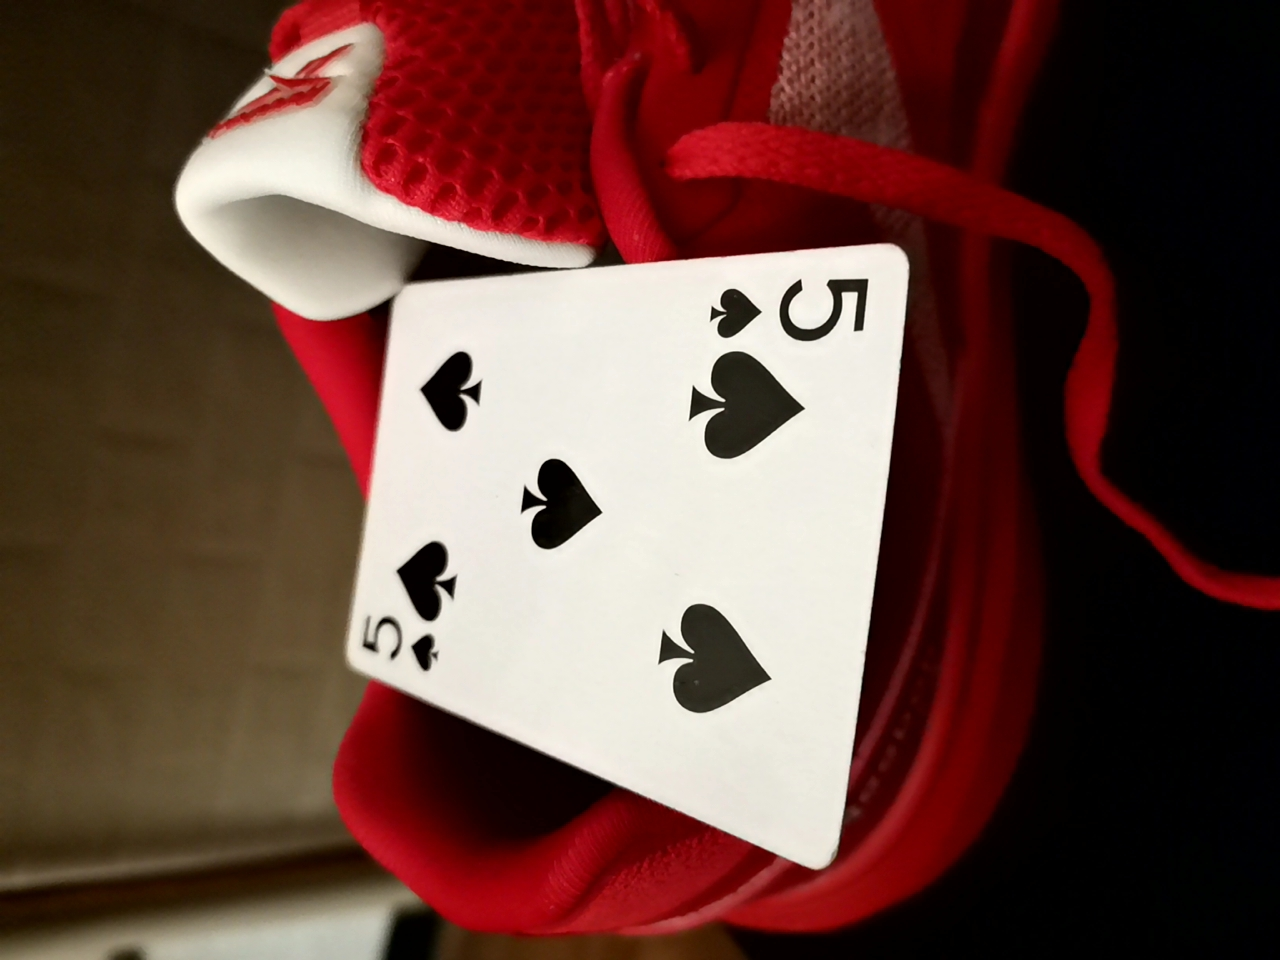ht 5: (342, 229, 910, 870)
